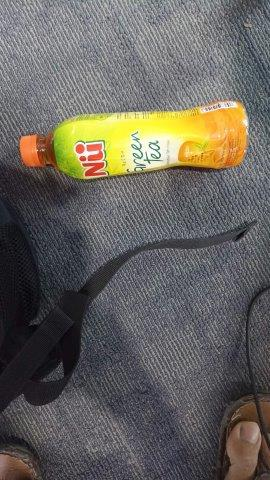botolplastik: (20, 101, 249, 179)
